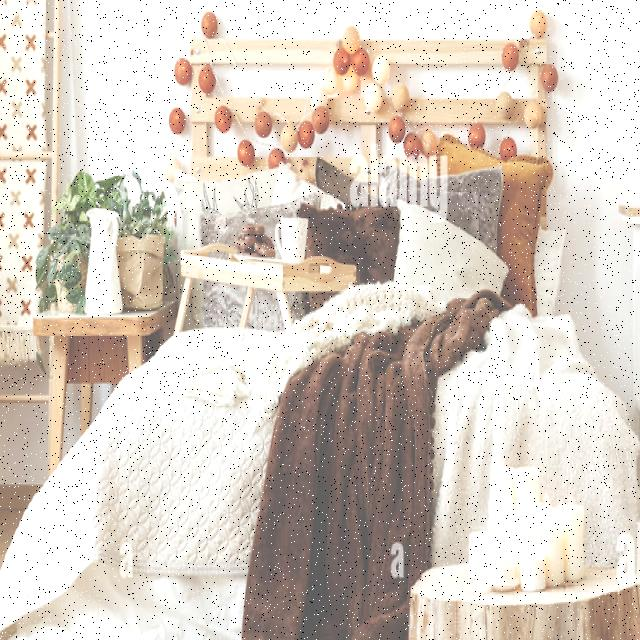bed: (58, 138, 612, 592)
